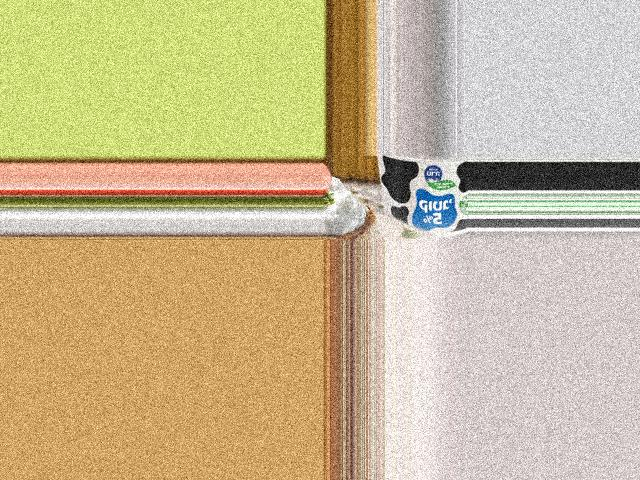cotage: (382, 155, 467, 235)
